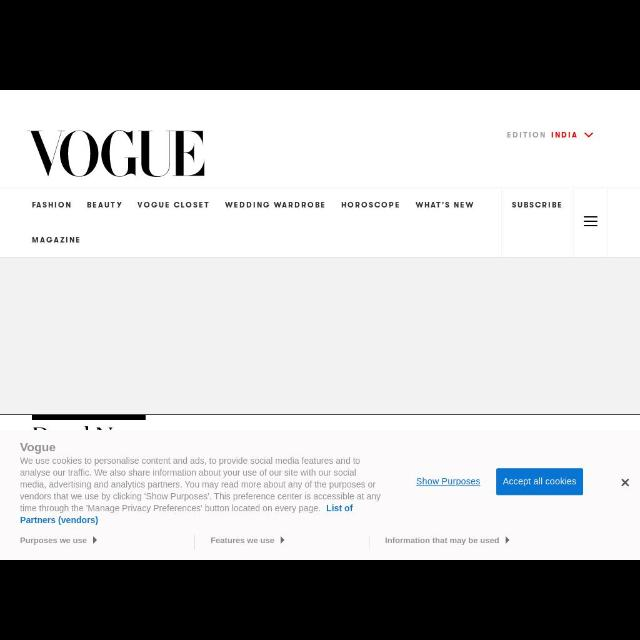icon: (582, 215, 598, 228), (620, 478, 630, 488), (582, 131, 594, 139), (91, 536, 97, 546), (280, 536, 284, 544), (505, 536, 509, 544)
image: (25, 130, 206, 178)
link: (416, 477, 482, 488)
panel: (2, 434, 640, 558)
spinner: (506, 131, 594, 139)
text: (19, 456, 382, 526), (384, 538, 500, 546), (224, 201, 326, 209), (138, 200, 208, 210), (503, 478, 577, 486), (19, 537, 86, 545), (210, 537, 274, 545), (512, 200, 562, 210), (340, 201, 400, 209), (415, 201, 473, 209), (506, 132, 576, 138), (19, 442, 56, 453), (31, 236, 80, 244), (31, 201, 71, 209), (84, 201, 122, 209)
textbutton: (495, 468, 583, 496)
toolbar: (1, 192, 639, 258)
